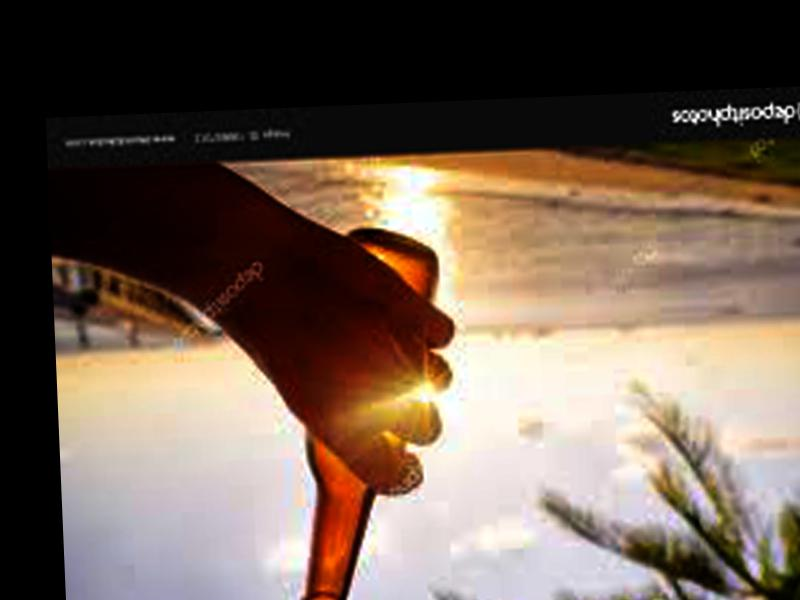Beer: (278, 223, 450, 600)
